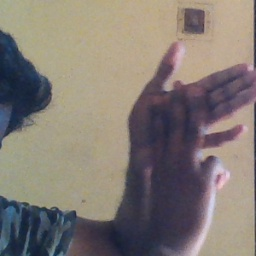M: (126, 41, 256, 206)
